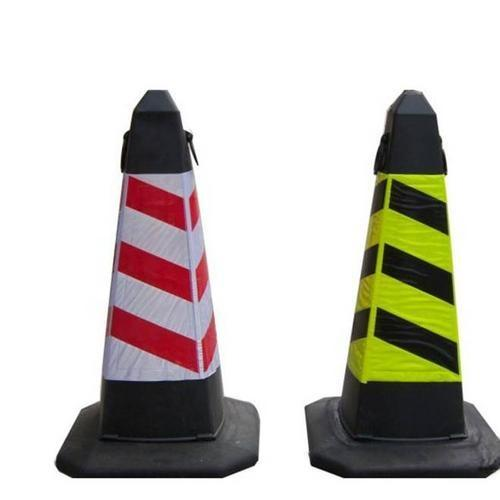cone_barrel: (63, 92, 252, 457), (307, 94, 482, 459)
